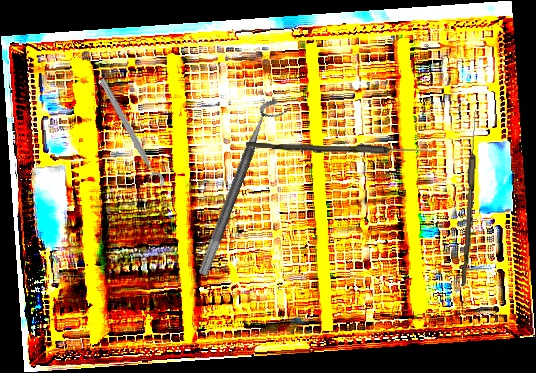Fixation Ring: (196, 95, 291, 283), (90, 76, 167, 193)
Surgical Spoon: (461, 109, 479, 287), (245, 142, 439, 155)
